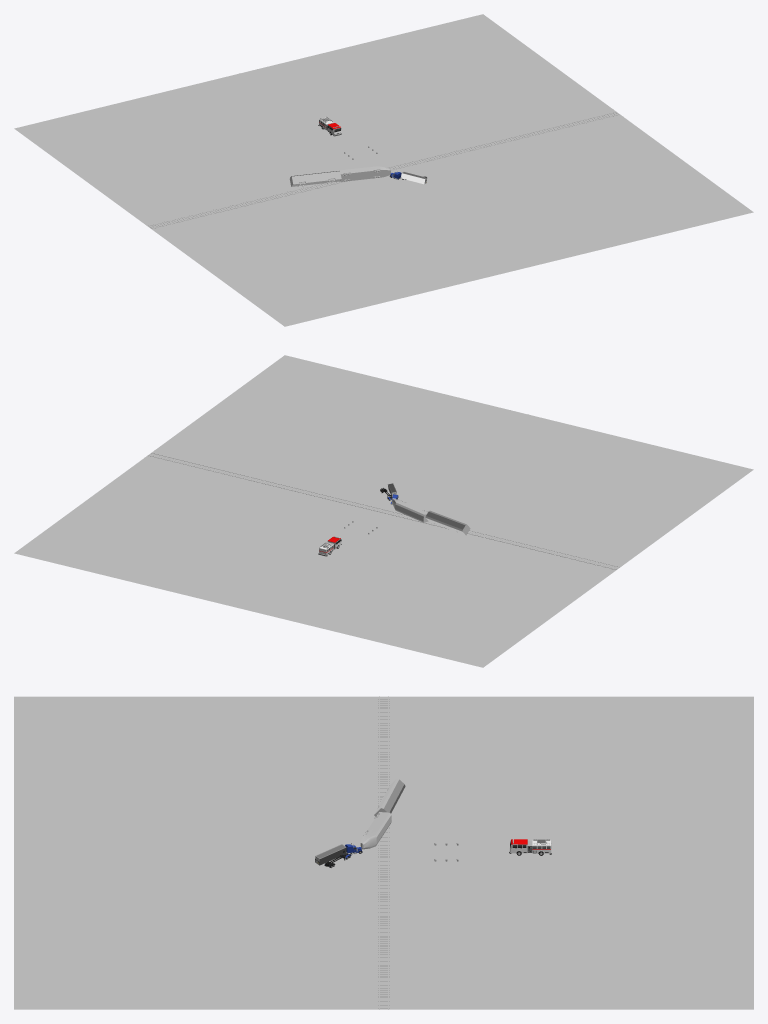
Rendered from changjing2_4.fbx.
3 views of the same model, one above another, from view 1: azimuth 30°, elevation 25°; view 2: azimuth 150°, elevation 25°; view 3: azimuth 270°, elevation 25° (orthographic). The views are drawn at different scales.
Visible parts, largest first — view 1: changjing2_4, huochedao2, huoche2; view 2: changjing2_4, huochedao2, huoche2; view 3: changjing2_4, huochedao2, huoche2, XiaoFangChe03, DakaChe06.
Boxes of the visible parts, <box> form: changjing2_4: <box>14,14,753,326</box>; huochedao2: <box>148,111,619,228</box>; huoche2: <box>289,166,390,186</box>; changjing2_4: <box>14,355,753,667</box>; huochedao2: <box>148,452,619,569</box>; huoche2: <box>392,499,470,535</box>; changjing2_4: <box>14,696,753,1009</box>; huochedao2: <box>378,696,389,1009</box>; huoche2: <box>360,778,405,849</box>; XiaoFangChe03: <box>509,839,551,855</box>; DakaChe06: <box>315,843,362,867</box>.
Size of the model in its own units: 34371 by 846 by 34371.
